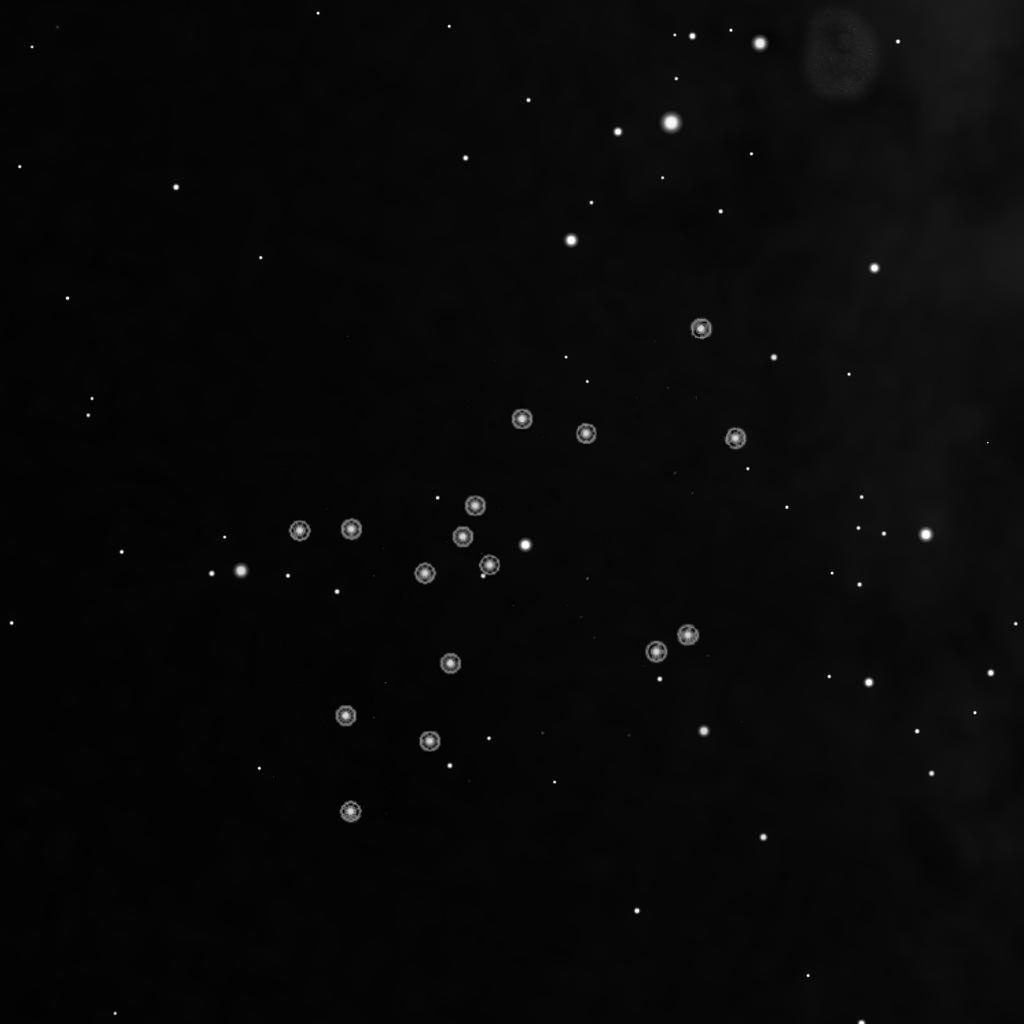canis_major: (404, 406, 601, 592)
